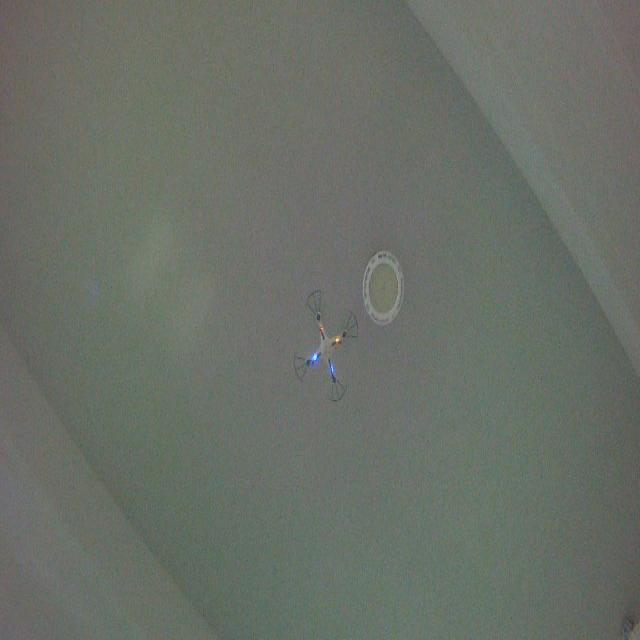drone: (291, 288, 362, 404)
